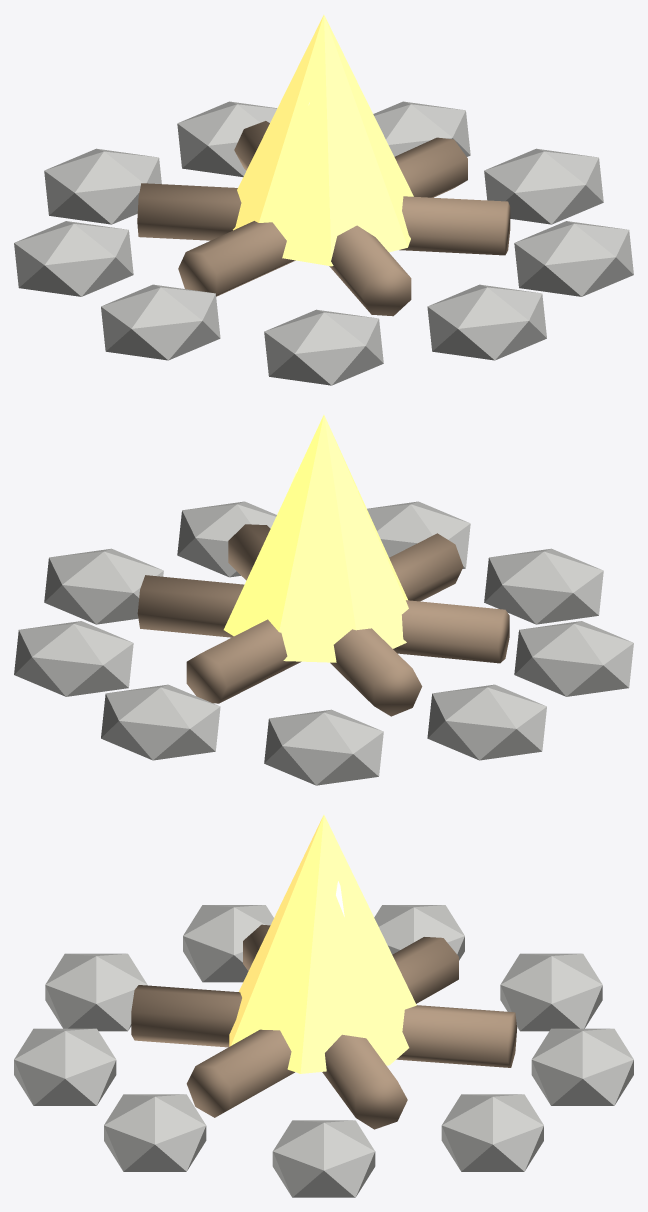
Rendered from campfire.glb.
3 views of the same model, one above another, from view 1: azimuth 30°, elevation 25°; view 2: azimuth 150°, elevation 25°; view 3: azimuth 270°, elevation 25° (orthographic). The views are drawn at different scales.
Parts seen in each view (by area): view 1: campfire; view 2: campfire; view 3: campfire.
Boxes of the visible parts, x1,y1,x2,y2 form: campfire: [14, 15, 633, 385]; campfire: [14, 415, 633, 785]; campfire: [14, 815, 633, 1197].
Bounding box in the file's own units: 1.34 × 0.624 × 1.3.
